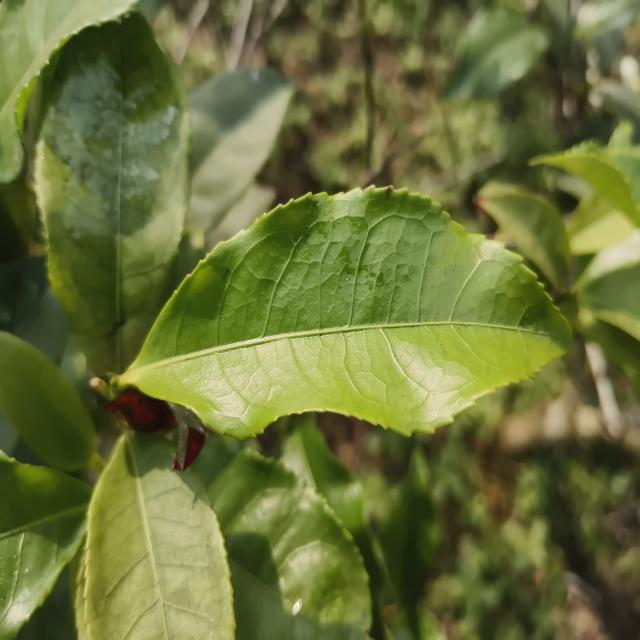Leaf: (113, 187, 570, 438), (34, 12, 191, 375), (193, 434, 372, 640), (82, 432, 235, 640), (0, 0, 137, 183), (281, 414, 386, 638), (188, 67, 294, 234), (0, 452, 91, 640), (0, 331, 97, 472), (380, 447, 440, 632), (476, 181, 569, 292), (442, 6, 549, 98), (531, 143, 640, 223), (583, 267, 640, 341)
